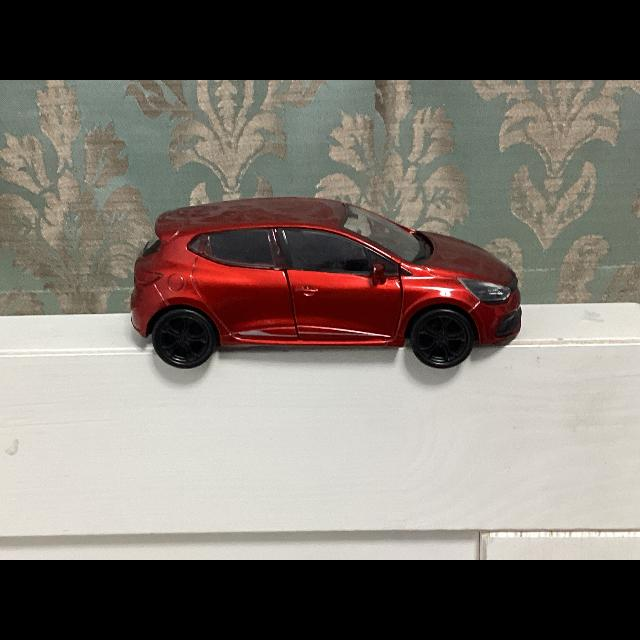Dogru_Jant: (417, 314, 467, 362), (159, 315, 207, 361)
